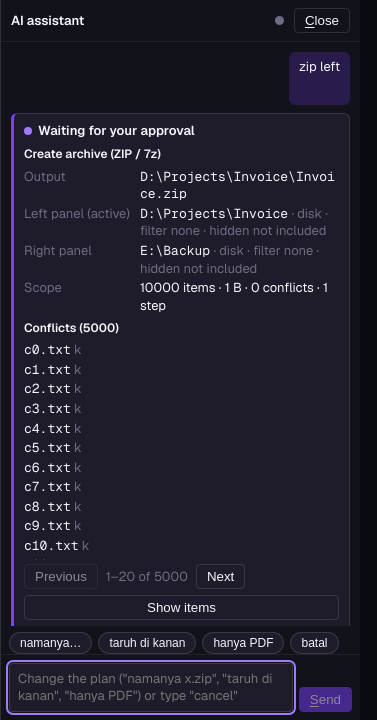
it: ChatPanel › paginates huge plans: only one page of rows is in the DOM
Click the button "Show items". click: coordinates (182, 608)
box: [24, 595, 339, 620]
(page scrolled)
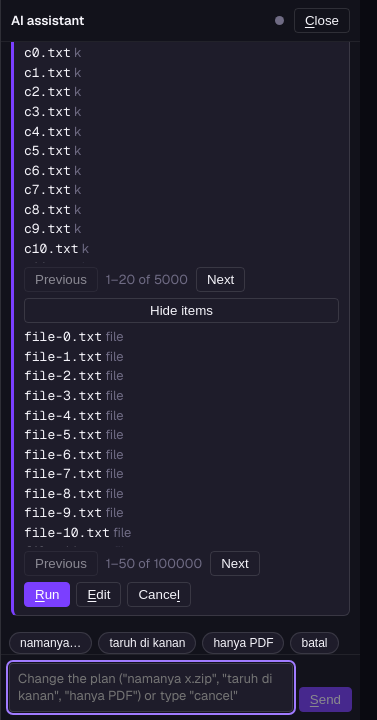
Result: the text "1–50 of 100000" is shown at [106, 555, 202, 573]
Click the button "Next" next to "1–50 of 100000". click: coordinates (235, 564)
box: [210, 551, 260, 576]
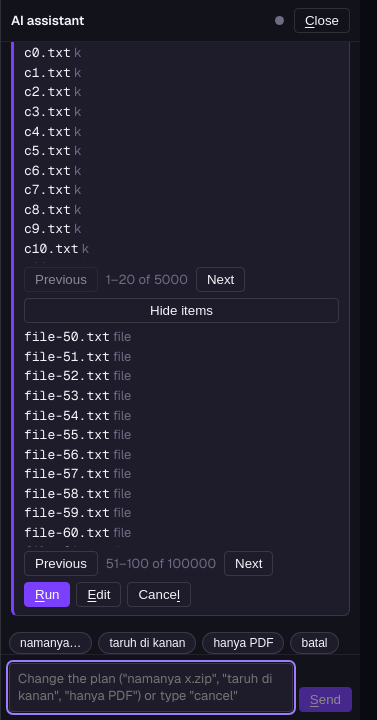
Result: the text "file-50.txt" is shown at [24, 328, 110, 345]
